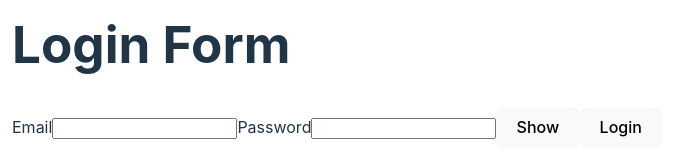
Test case: LoginForm › logs in and updates ui
Step 1. Type "test@example.com" into the field labelled "Email" → (145, 129), box [52,118,237,140]
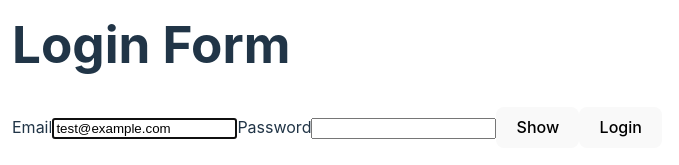
Step 2. Type "password" into the password field labelled "Password" → (404, 129), box [311,118,496,140]
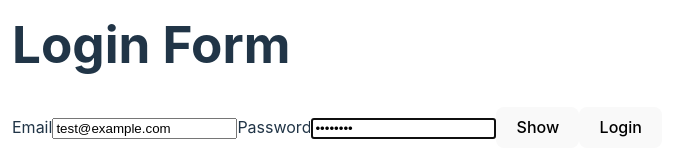
Step 3. Click the button "Login" → (621, 128), box [579,107,662,148]
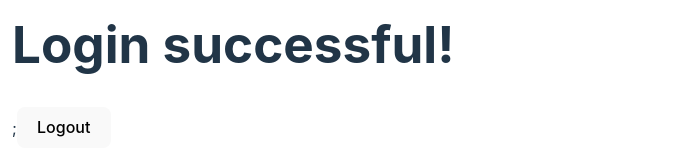
Check: the heading "Login successful!" is shown, box [12,16,454,73]
